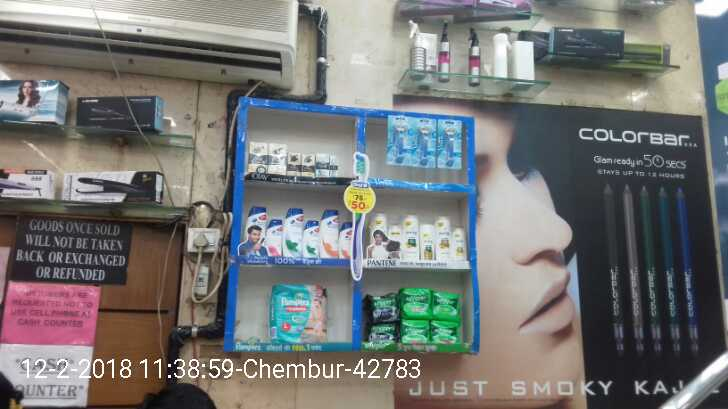venus: (411, 116, 436, 165), (437, 118, 461, 166), (387, 116, 411, 162)
